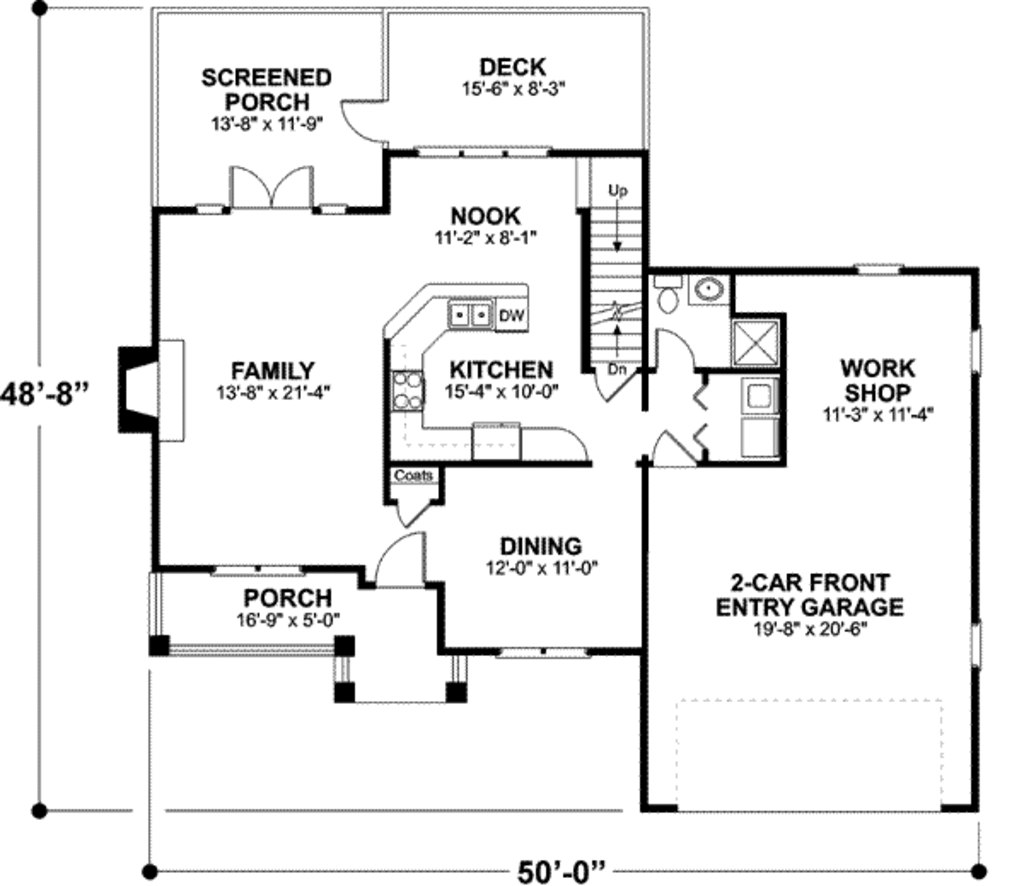door: (225, 160, 317, 216), (374, 533, 429, 587), (339, 93, 391, 146), (638, 424, 696, 470), (650, 325, 702, 375)
kitchen_bar: (383, 274, 533, 358)
large_sink: (649, 269, 689, 315)
small_sink: (690, 272, 733, 310)
stairs: (563, 152, 647, 372)
windows: (413, 142, 552, 162), (209, 560, 306, 581), (489, 647, 590, 662), (856, 262, 910, 281), (969, 324, 983, 380)
